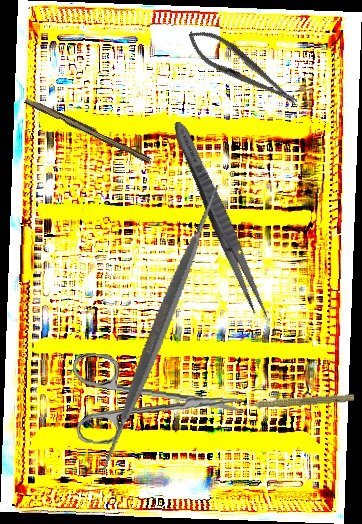Dressing Forceps: (167, 117, 274, 323)
Handpiece: (236, 389, 355, 412)
Iris Scissors: (68, 352, 249, 454)
Needle Holder: (180, 20, 305, 117)
Scalpel Handle: (23, 95, 153, 164)
Spatula Surgical: (14, 179, 308, 476)
